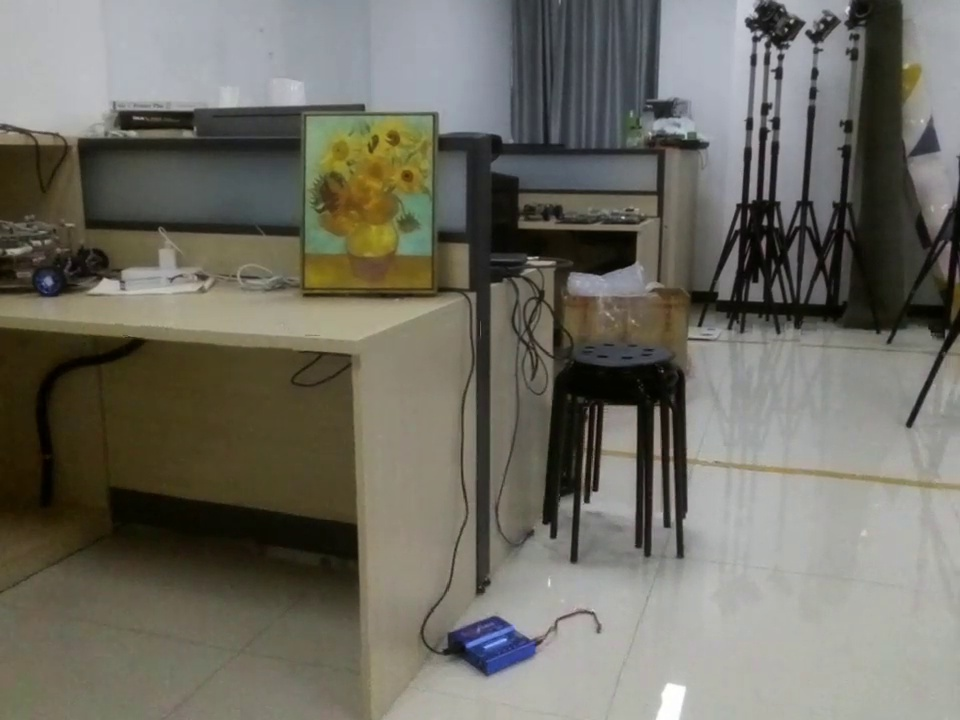painting: (297, 108, 449, 303)
